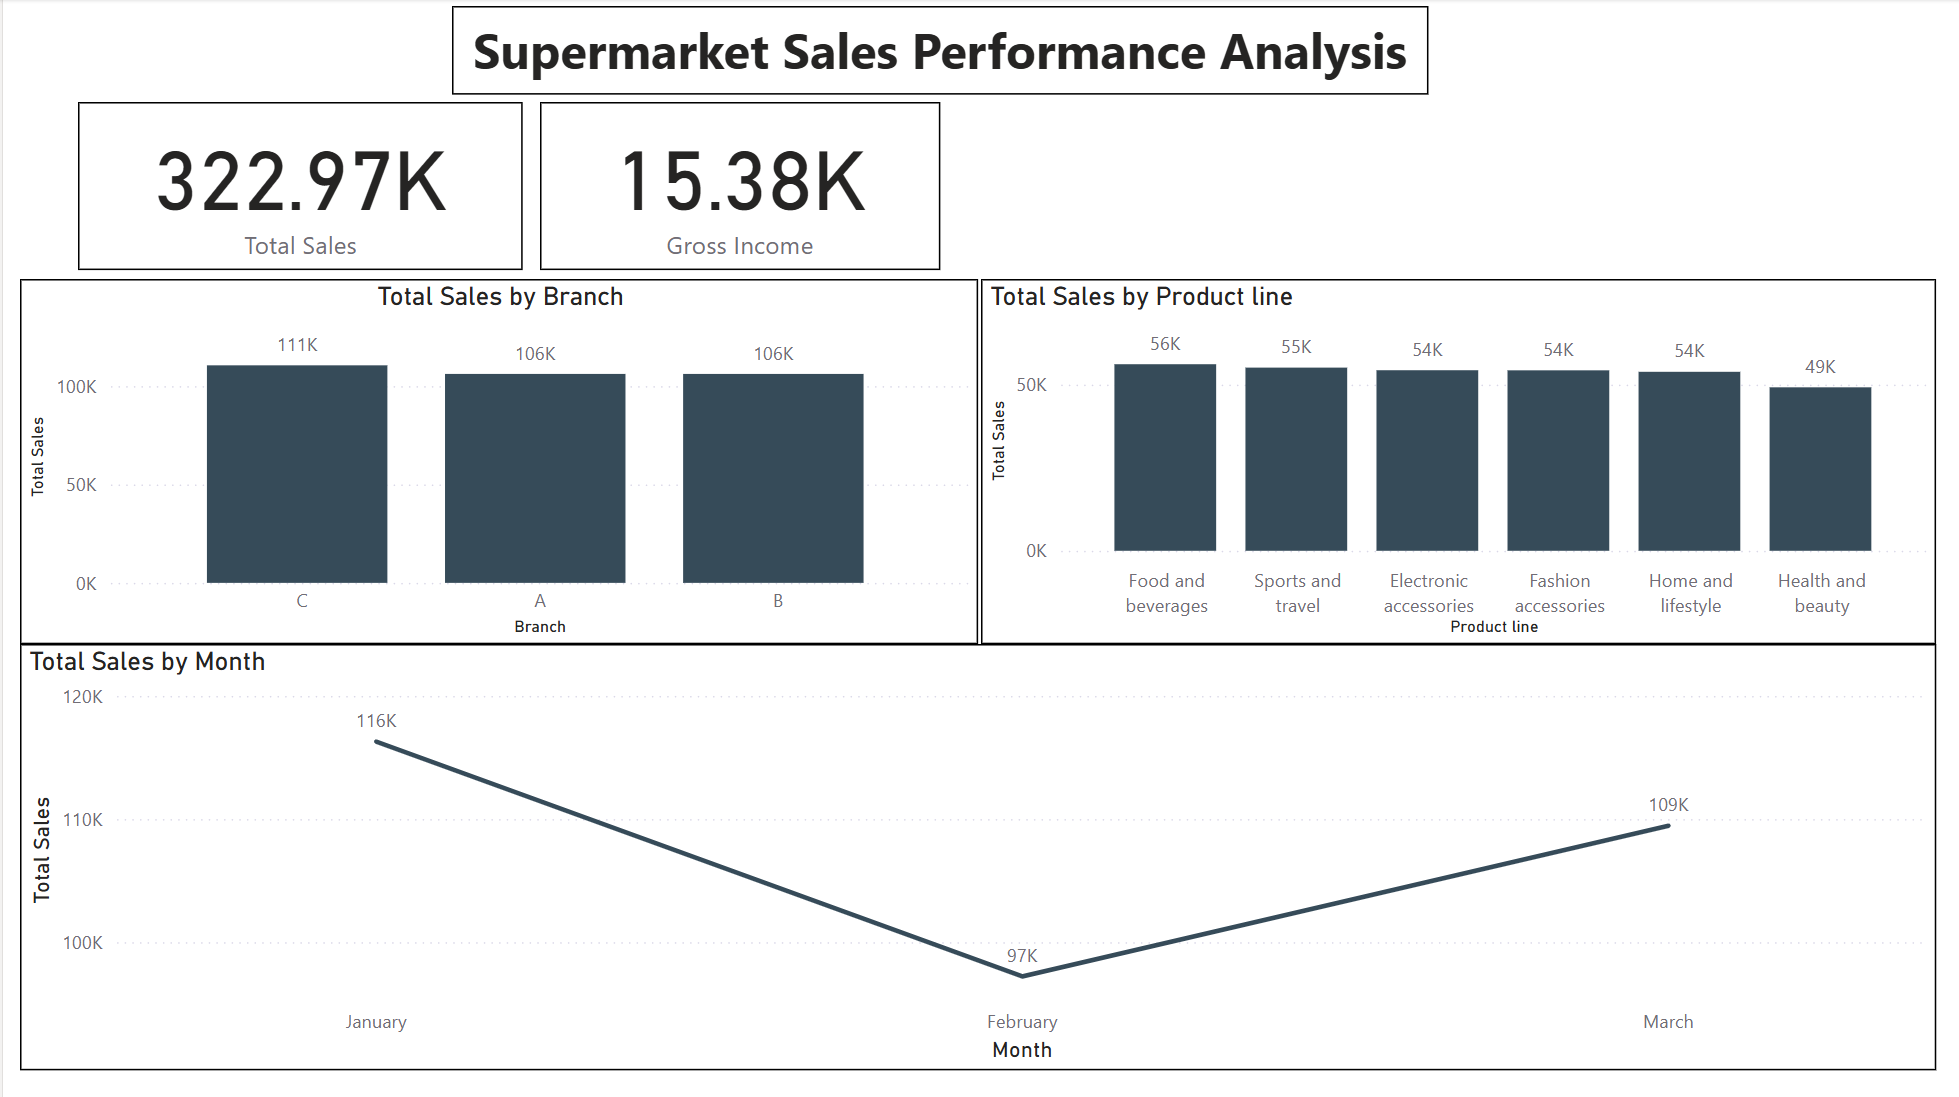

The dashboard page shown, as its layout file describes it:
{"tool":"powerbi","page":{"name":"Page 1","canvas":[1280,720],"ordinal":0},"visuals":[{"type":"card","fields":{"Values":["Table.Total Sales"]},"box":[49.1,67.4,291.2,109.9],"z":0},{"type":"card","fields":{"Values":["Table.Gross Income"]},"box":[351.4,67.4,261.8,109.9],"z":1},{"type":"clusteredColumnChart","fields":{"Category":["supermarket_sales.Branch"],"Y":["Table.Total Sales"]},"box":[11.1,183.2,626.9,238.9],"z":2},{"type":"clusteredColumnChart","fields":{"Category":["supermarket_sales.Product line"],"Y":["Table.Total Sales"]},"box":[640,183.2,624.9,238.9],"z":3},{"type":"lineChart","fields":{"Category":["supermarket_sales.Date.Variation.Date Hierarchy.Year","supermarket_sales.Date.Variation.Date Hierarchy.Quarter","supermarket_sales.Date.Variation.Date Hierarchy.Month","supermarket_sales.Date.Variation.Date Hierarchy.Day"],"Y":["Table.Total Sales"]},"box":[11.1,422.1,1253.8,279.4],"z":4},{"type":"textbox","box":[293.8,4.6,638.7,58.2],"z":5}]}

Visuals, with their boxes in screenshot pixels (x1, y1, x2, y2), scaled from the page's 1280x720 canvas onto the 1959x1097 screenshot:
card - Table.Total Sales: BBox(75, 103, 521, 270)
card - Table.Gross Income: BBox(538, 103, 938, 270)
clusteredColumnChart - supermarket_sales.Branch x Table.Total Sales: BBox(17, 279, 976, 643)
clusteredColumnChart - supermarket_sales.Product line x Table.Total Sales: BBox(980, 279, 1936, 643)
lineChart - supermarket_sales.Date.Variation.Date Hierarchy.Year x supermarket_sales.Date.Variation.Date Hierarchy.Quarter: BBox(17, 643, 1936, 1069)
textbox: BBox(450, 7, 1427, 96)
